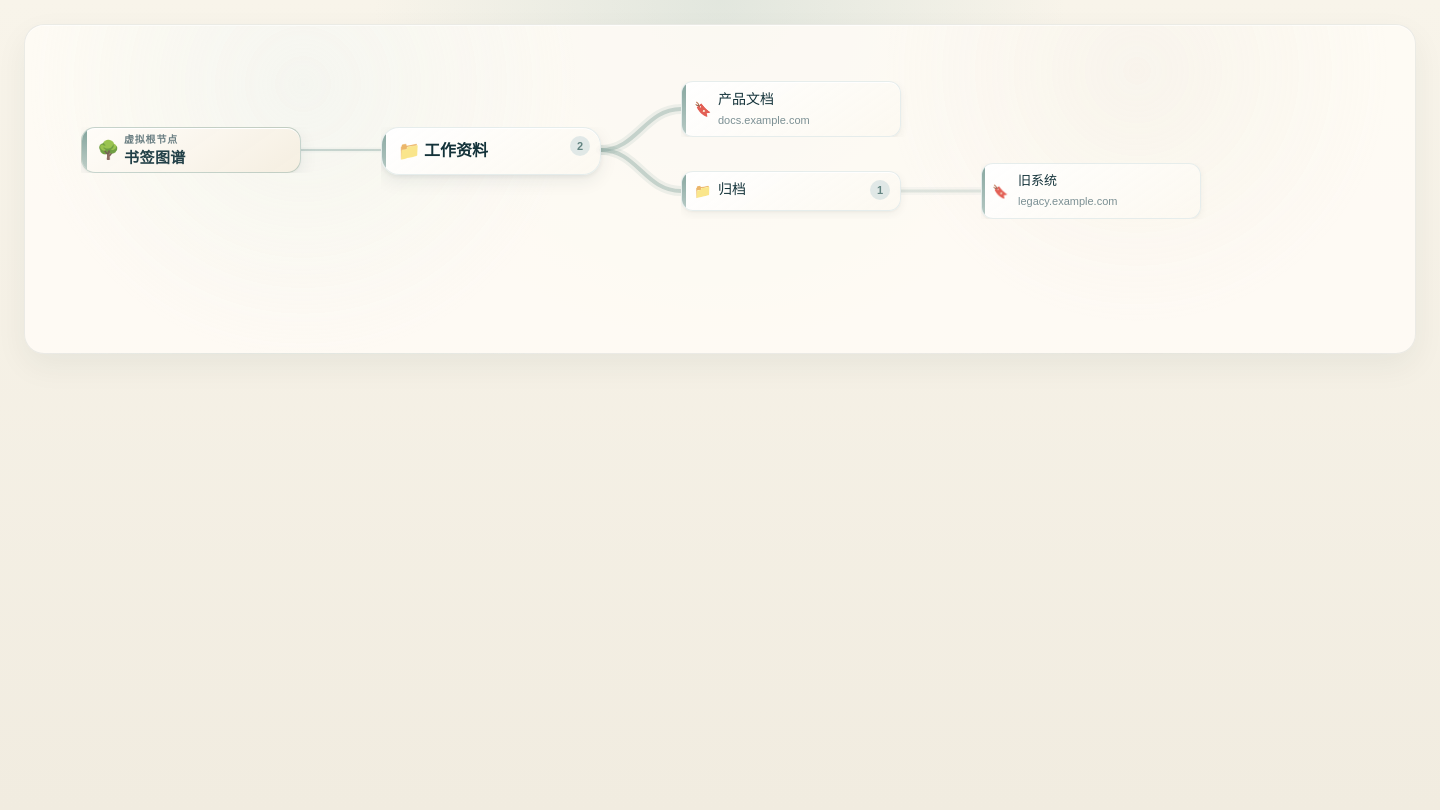
Test: T06 draft graph workspace interaction gate › creating a new top-level sibling does not force-scroll the canvas back to the top-left corner
Click the button with aria-label "目录节点：工作资料" at coordinates (491, 151), box x1=381 y1=127 x2=601 y2=175
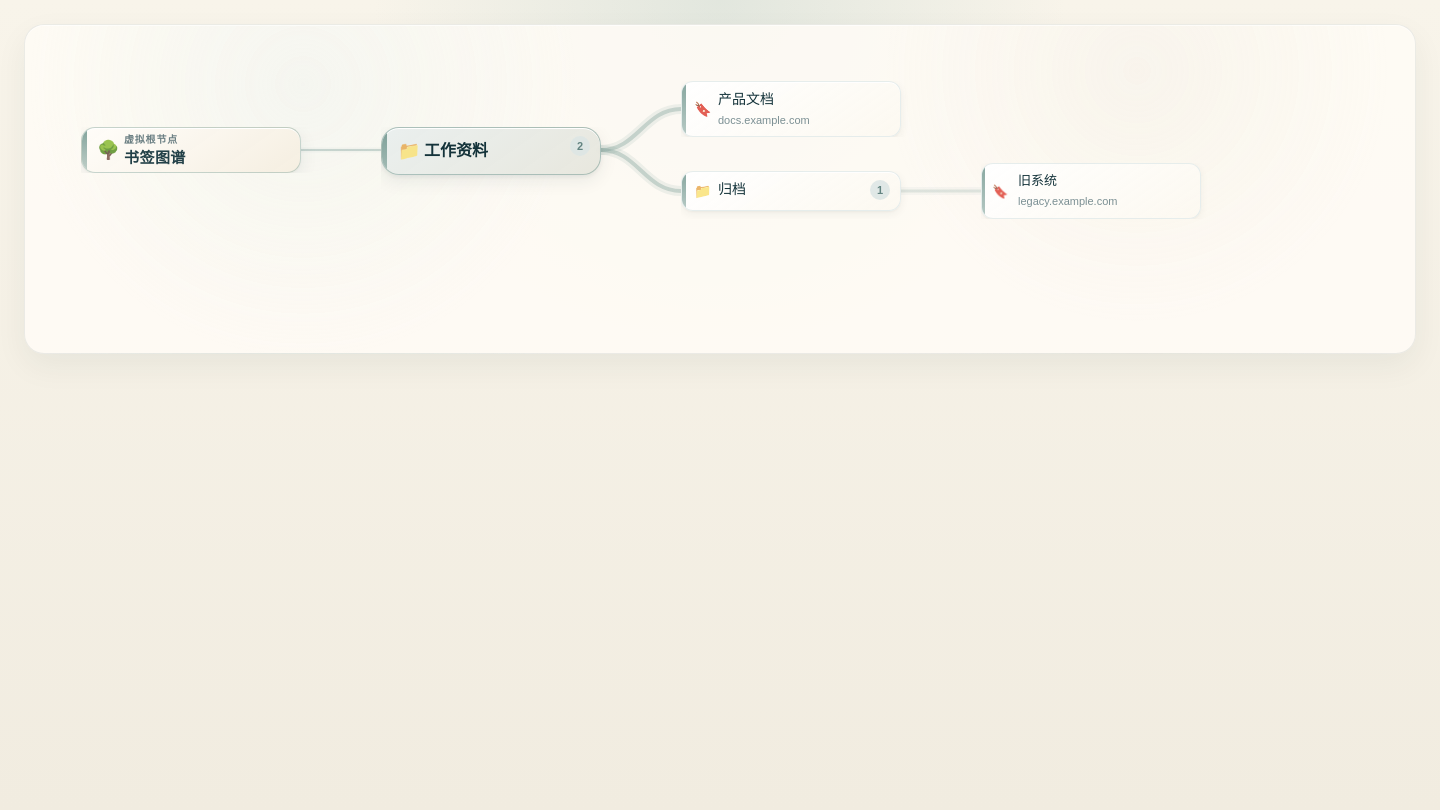
Press Enter in the button with aria-label "目录节点：工作资料", box x1=381 y1=127 x2=601 y2=175
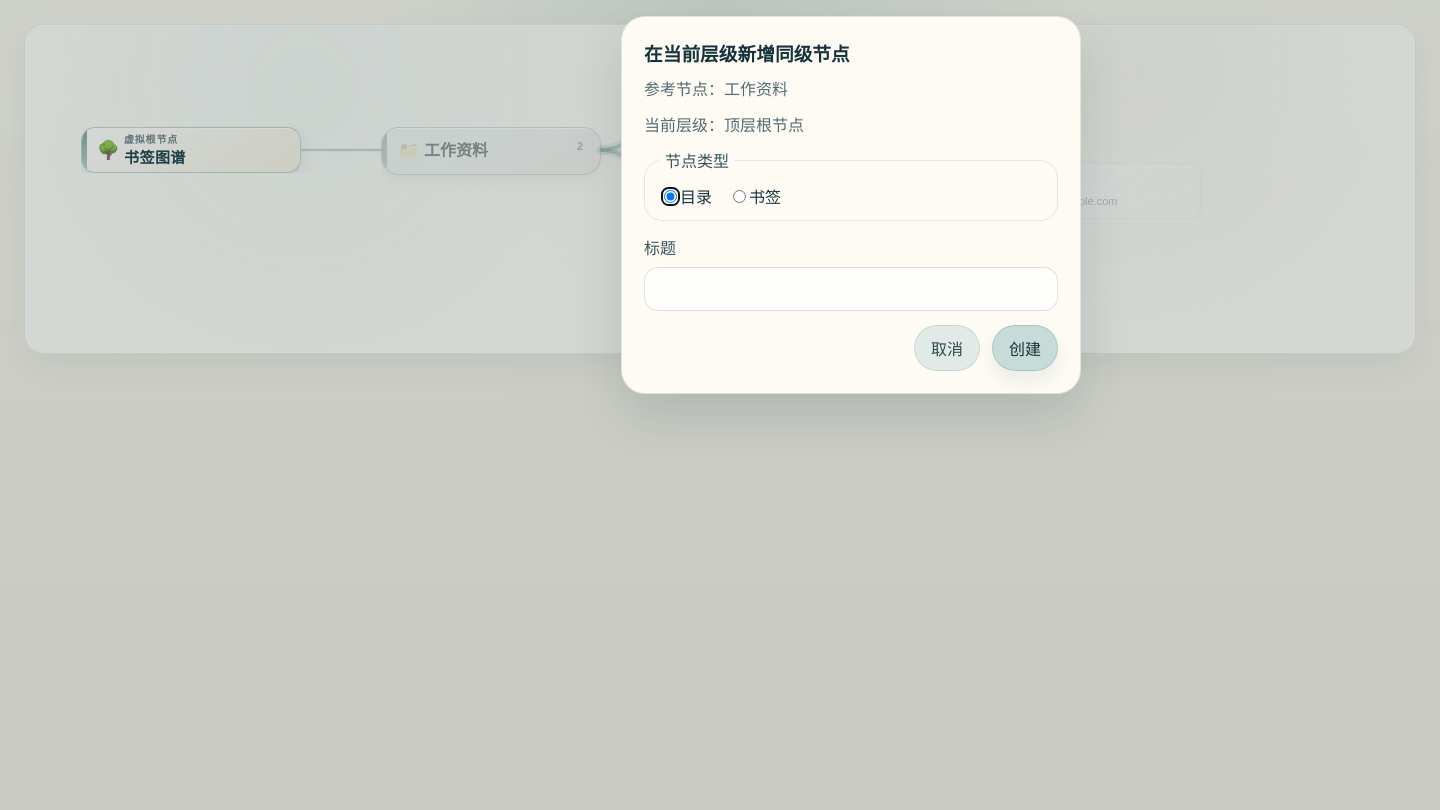
Type "新的顶层节点" into the field labelled "标题" at coordinates (851, 289), box x1=644 y1=267 x2=1058 y2=311
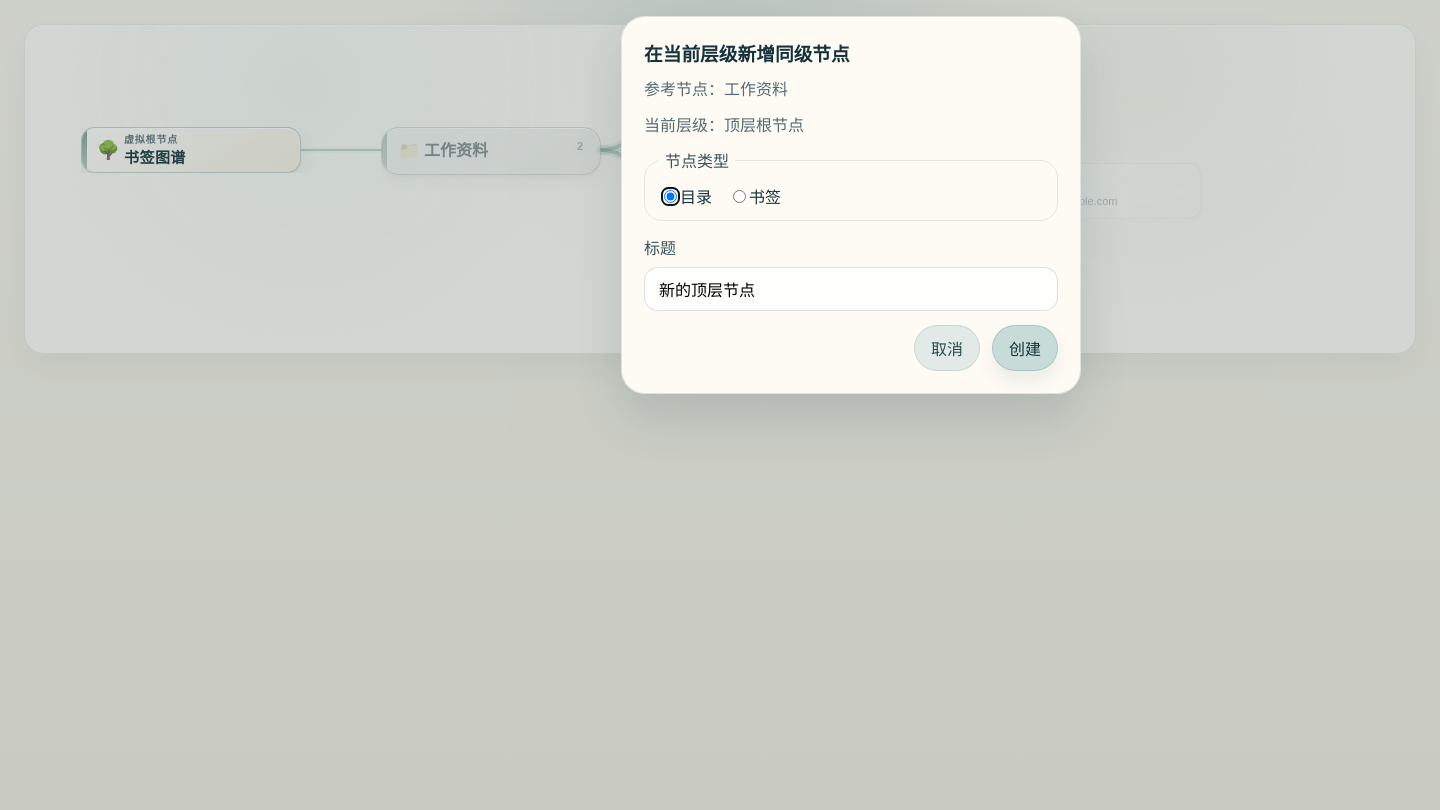
Click the button "创建" at coordinates (1025, 348), box x1=992 y1=325 x2=1058 y2=371
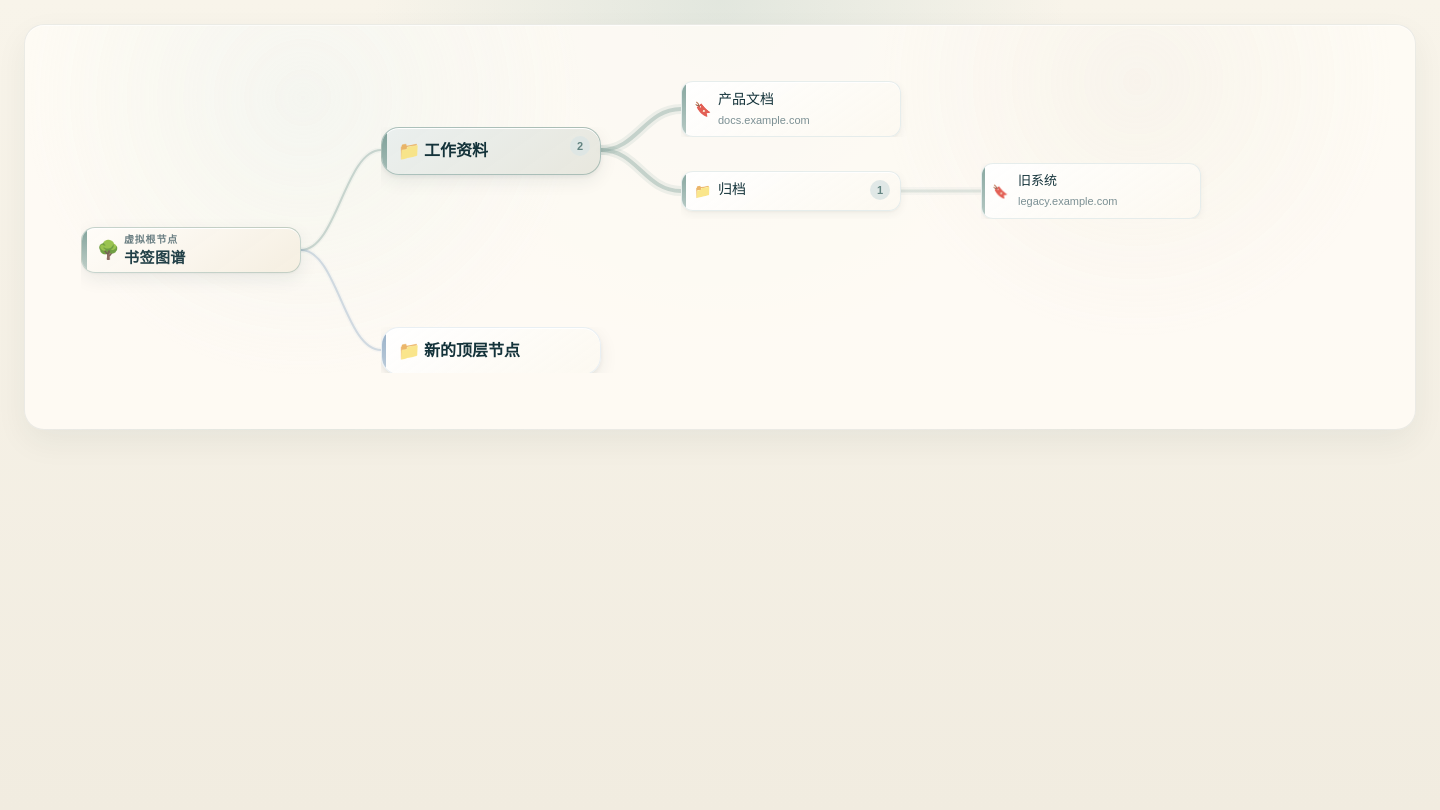
expect the button with aria-label "目录节点：新的顶层节点" is shown: met, box x1=381 y1=327 x2=601 y2=375
